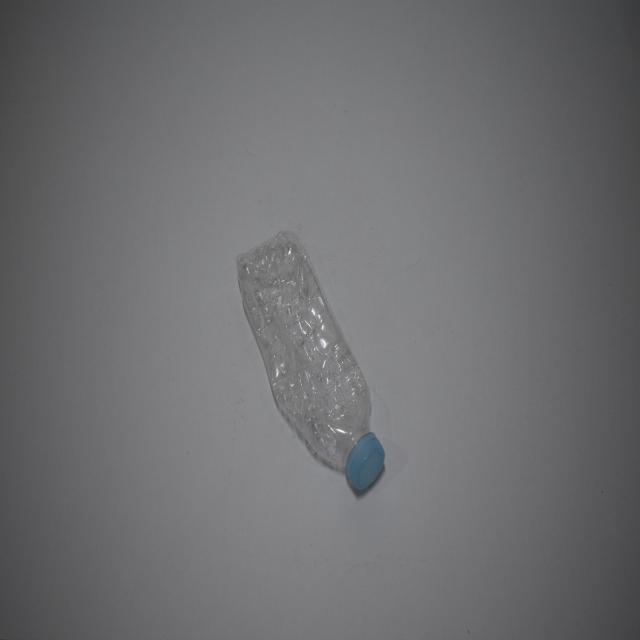empty: (236, 231, 385, 490)
